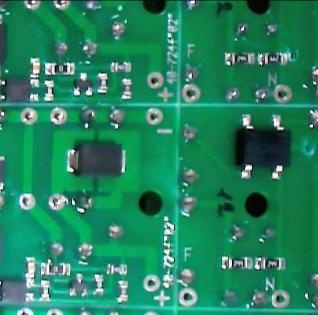chip-capacitor: (29, 57, 41, 79), (25, 256, 36, 278)
chip-resistor: (257, 50, 292, 66), (39, 260, 71, 277), (220, 254, 253, 270), (222, 50, 255, 66), (43, 60, 75, 76), (254, 256, 286, 270), (92, 273, 106, 297), (96, 70, 109, 95), (116, 280, 130, 303), (106, 262, 129, 275), (38, 279, 51, 302), (109, 60, 132, 73), (43, 79, 55, 103), (121, 77, 133, 100)
diode: (65, 140, 128, 178)
ic: (233, 111, 294, 180), (0, 77, 40, 103), (0, 279, 36, 302)
transistor: (73, 71, 95, 98), (69, 272, 90, 298)
